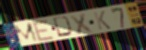7: (110, 7, 125, 29)
D: (52, 15, 75, 39)
E: (31, 19, 56, 43)
K: (92, 10, 112, 31)
M: (13, 21, 40, 45)
X: (68, 12, 97, 36)
